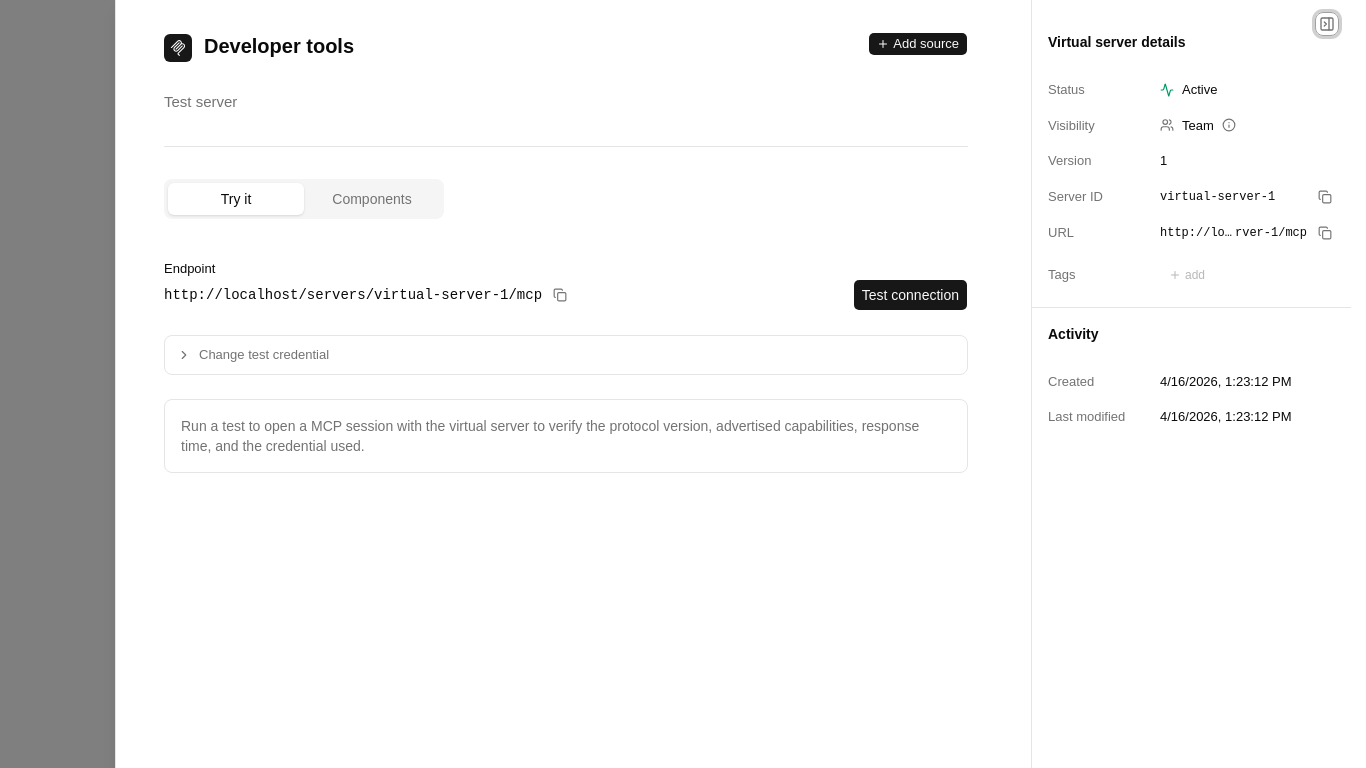
it: VirtualServerDetailsPanel tool testing › opens a fetched tool test in place and returns to the component list
Click the tab "Components" at (372, 199), box x1=304 y1=183 x2=440 y2=215
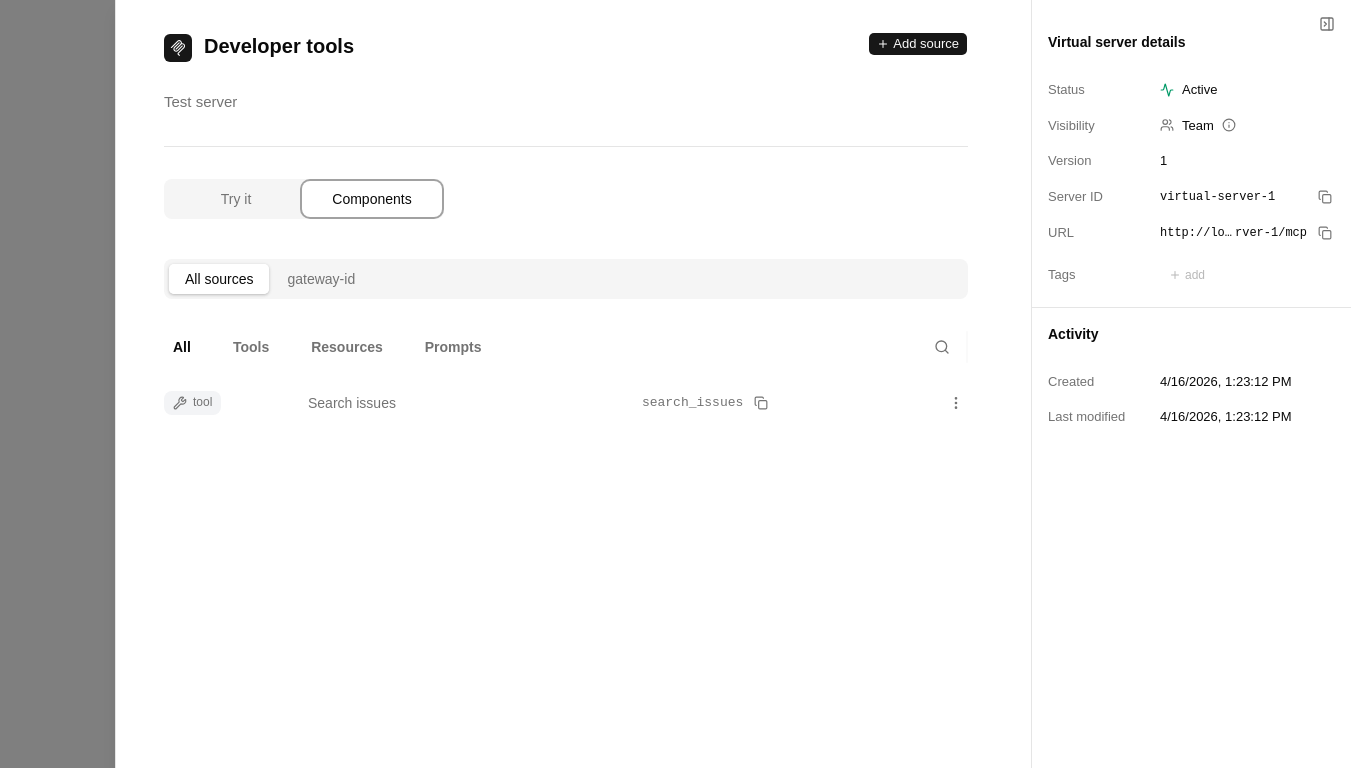
Click the button named "Actions for Search issues" at (956, 403), box x1=944 y1=391 x2=968 y2=415
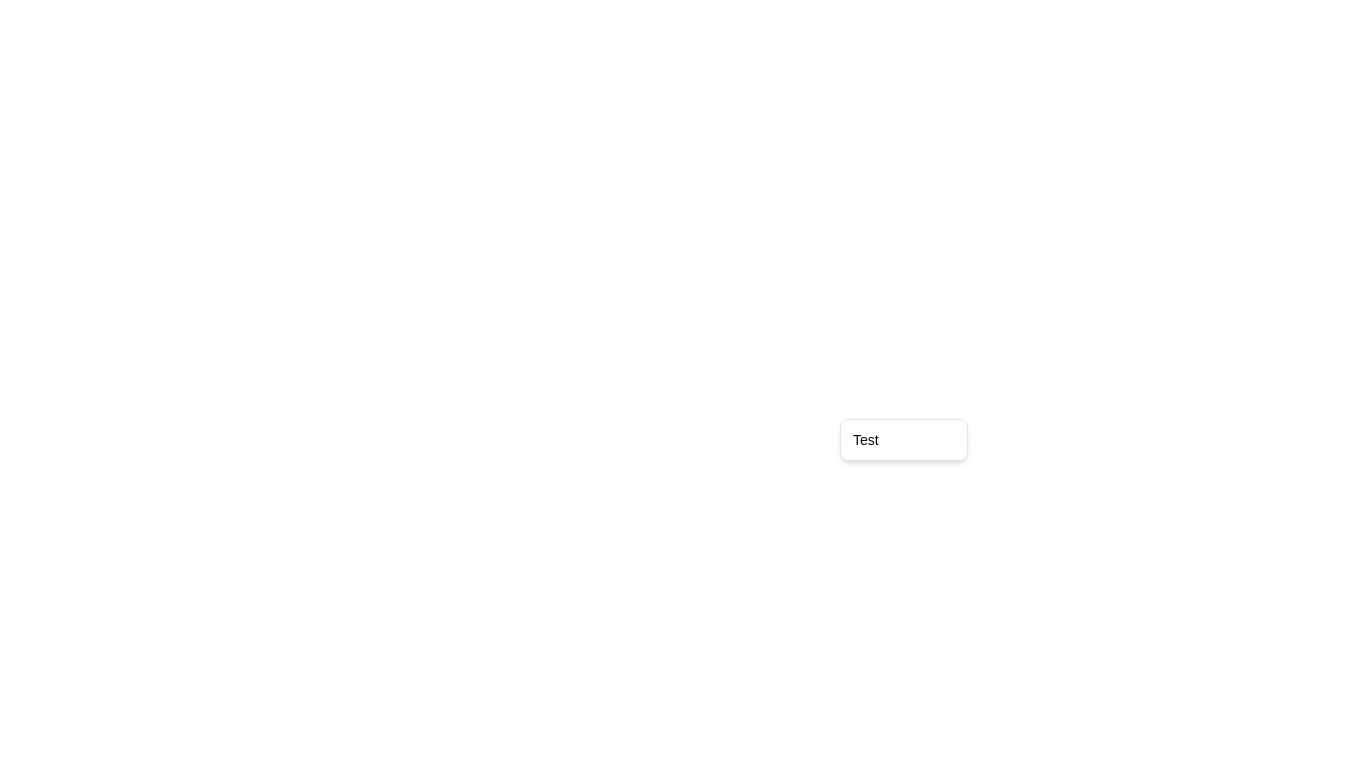
Click the menu item "Test" at (866, 440), box x1=853 y1=432 x2=879 y2=448
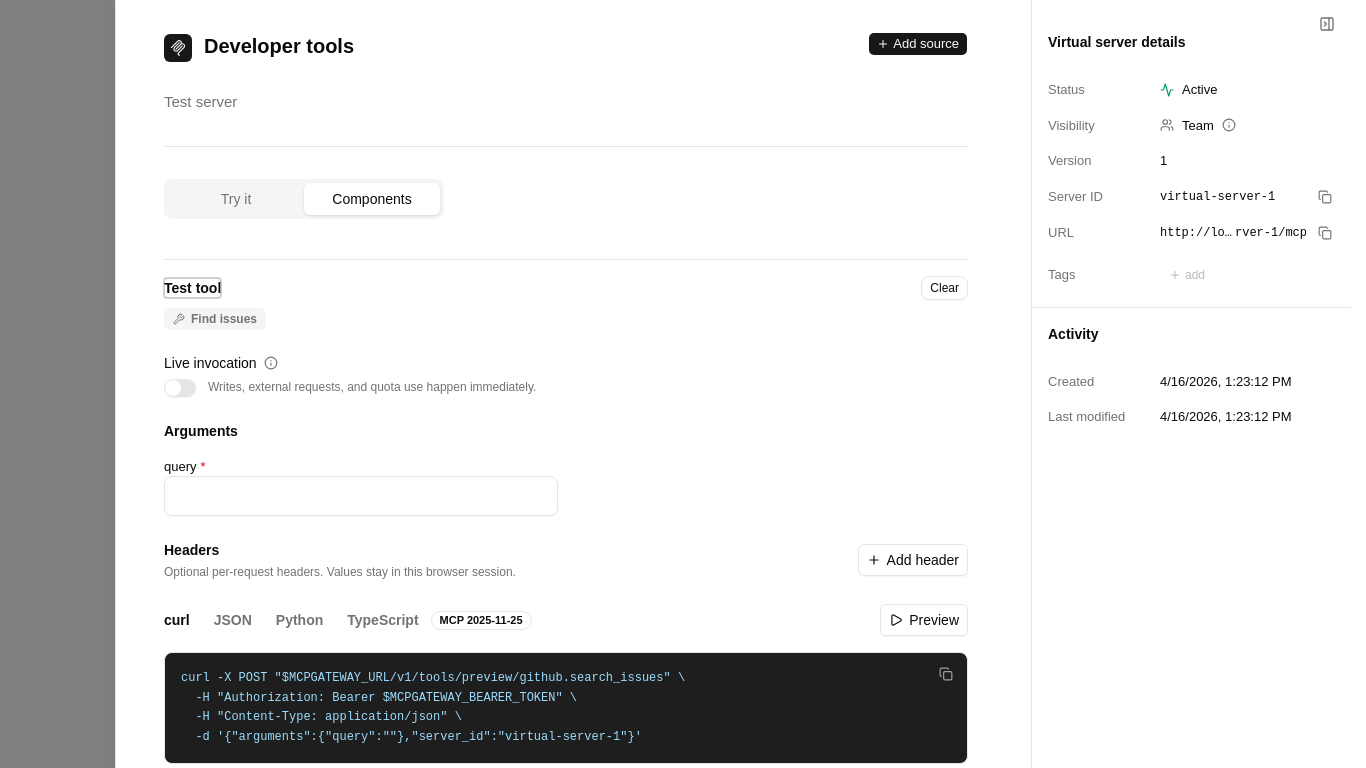
Result: the text "Find issues" is shown at x1=191 y1=311 x2=257 y2=327
Result: the button "Preview" is shown at x1=880 y1=604 x2=968 y2=636
Result: the switch named "Live invocation" is not checked at x1=164 y1=378 x2=196 y2=397
Click the button with aria-label "Clear selected tool and return to components" at (945, 288), box x1=921 y1=276 x2=968 y2=300
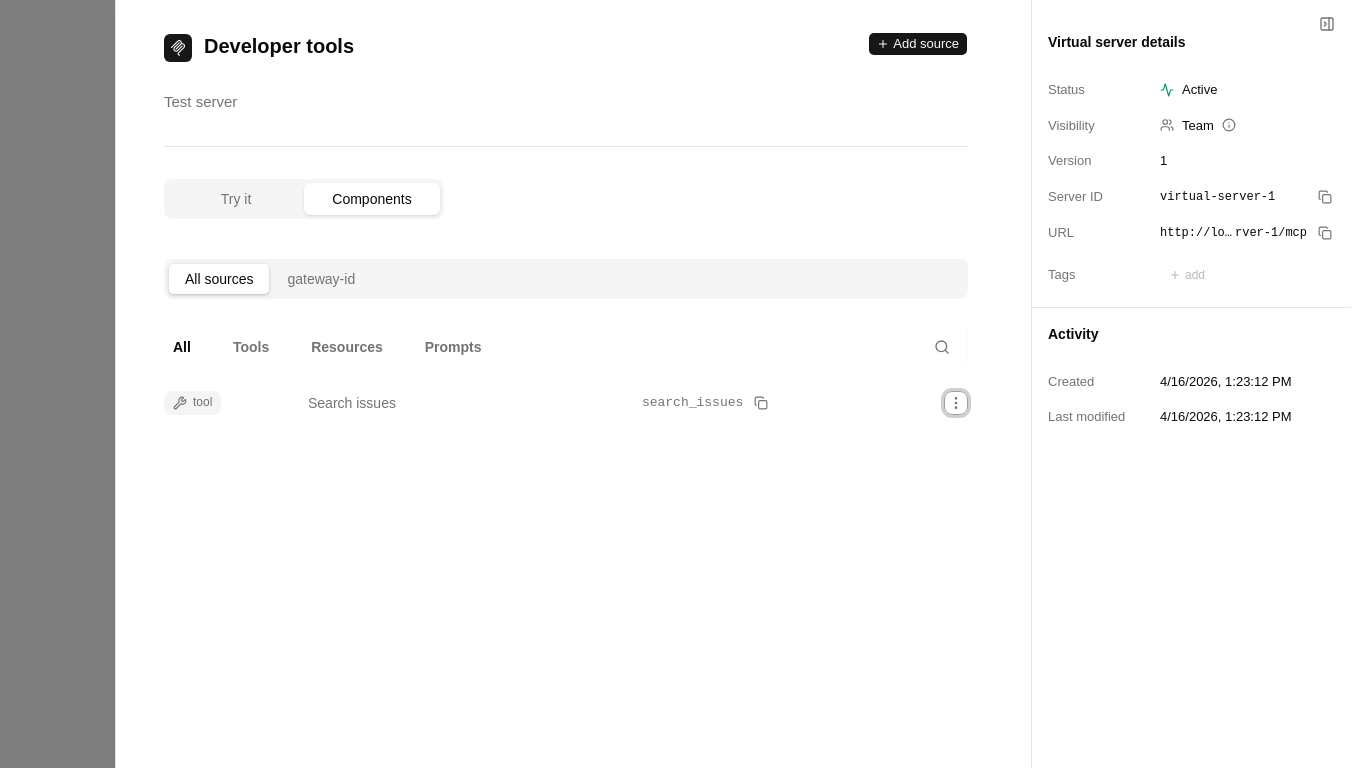
Result: the text "Search issues" is shown at x1=308 y1=395 x2=396 y2=411
Result: the heading "Test tool" is gone
